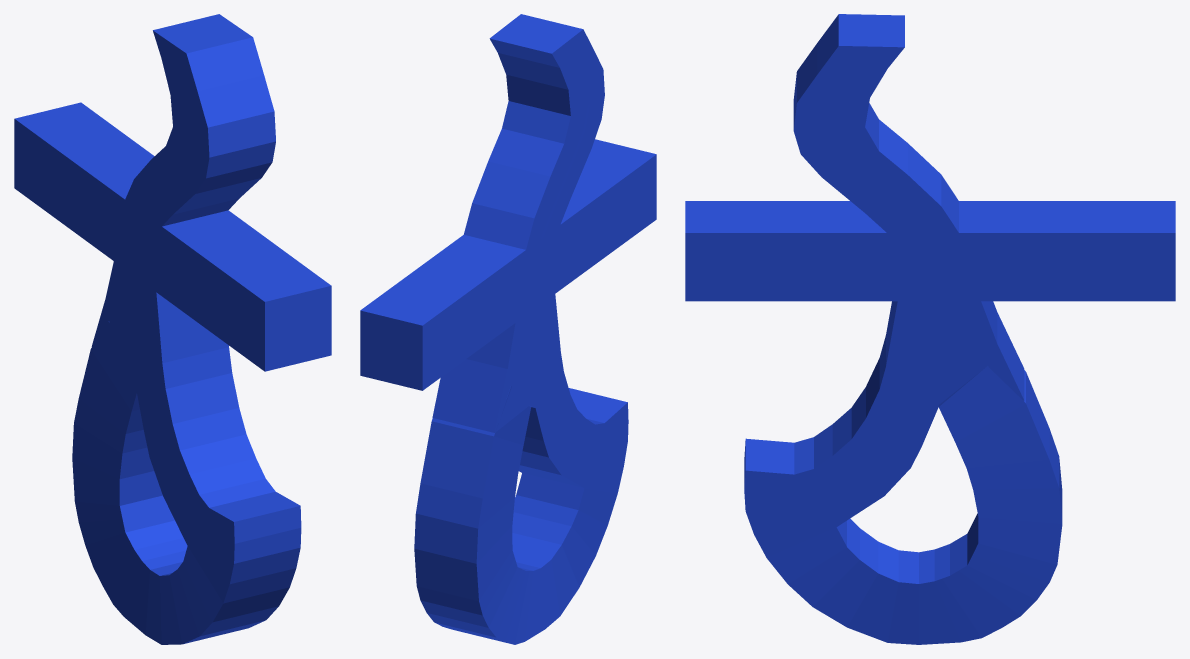
The picture shows the model from 3 angles, left to right: view 1: azimuth 30°, elevation 25°; view 2: azimuth 150°, elevation 25°; view 3: azimuth 270°, elevation 25°; orthographic projection. The views are drawn at different scales.
Visible parts, largest first — view 1: Cube; view 2: Cube; view 3: Cube.
Boxes of the visible parts, <box> form: Cube: <box>14,14,331,644</box>; Cube: <box>360,14,656,644</box>; Cube: <box>685,14,1175,644</box>.
Bounding box in the file's own units: 215 × 1754 × 1301.
